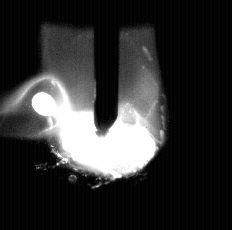arame: (95, 0, 120, 138)
poca: (47, 0, 163, 230)
